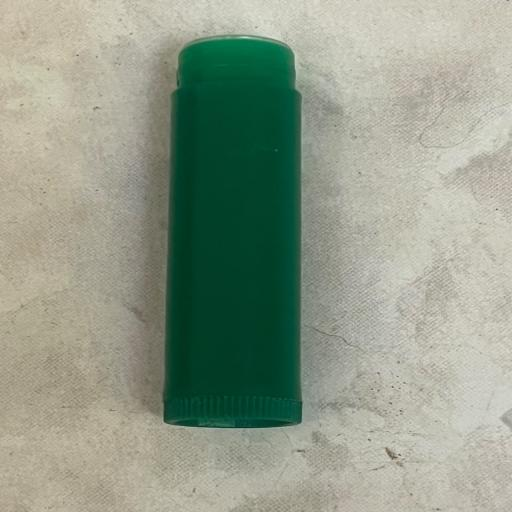HDPE: (75, 17, 412, 485)
